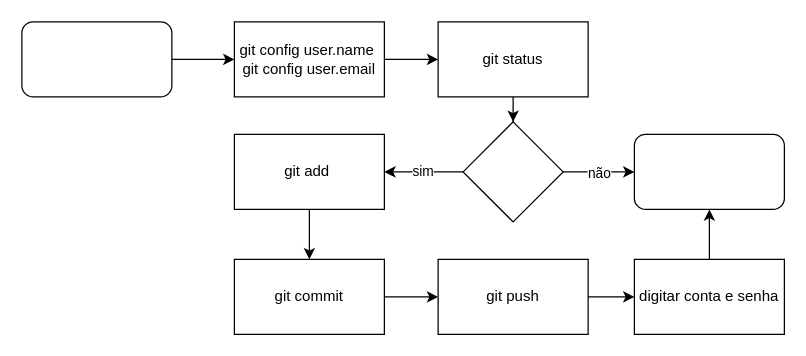
Image size: 806x356. Some labels were removed from this diagram. The shapes that lost their labels are listed below. From the top down, each one's centre as x and y in pixels, then its label:
At [96,59]: "git init".
At [512,171]: "modificação?".
At [708,171]: "git log".
